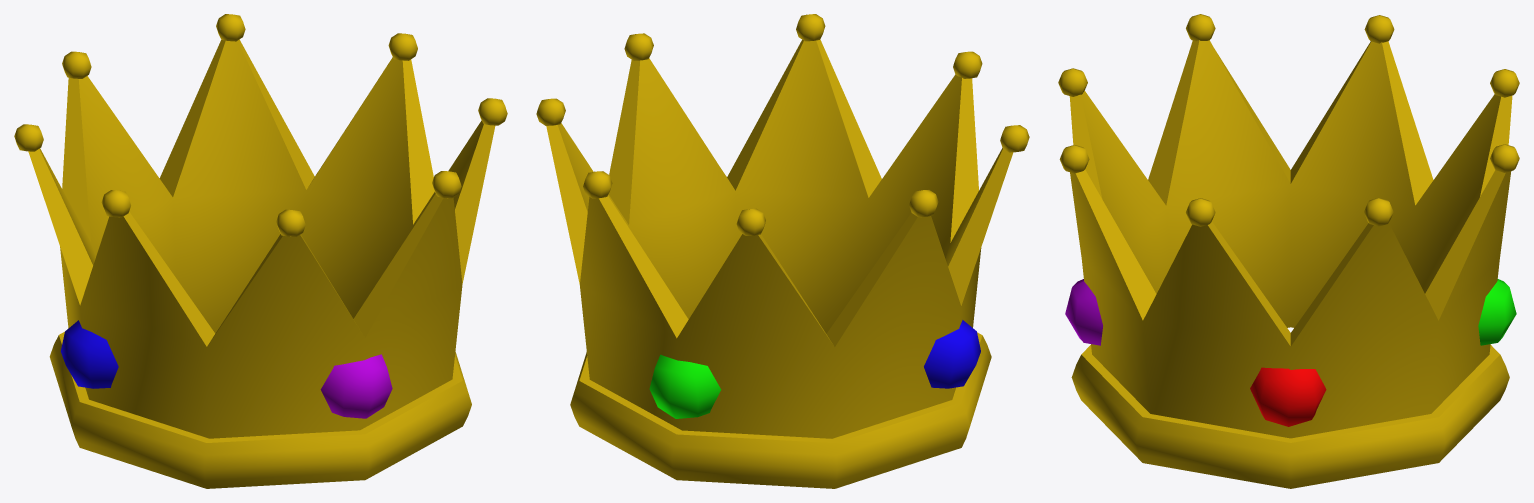
The model's file is crown.fbx.
3 renders of one model, left to right at view 1: azimuth 30°, elevation 25°; view 2: azimuth 150°, elevation 25°; view 3: azimuth 270°, elevation 25°, orthographic.
Parts seen in each view (by area): view 1: Cylinder.001; view 2: Cylinder.001; view 3: Cylinder.001.
Part boxes in pixels (box(x1,y1,x2,y2)): Cylinder.001: box(14, 14, 507, 488); Cylinder.001: box(536, 14, 1029, 488); Cylinder.001: box(1058, 14, 1519, 488).
Size of the model in its own units: 234 by 164 by 232.
